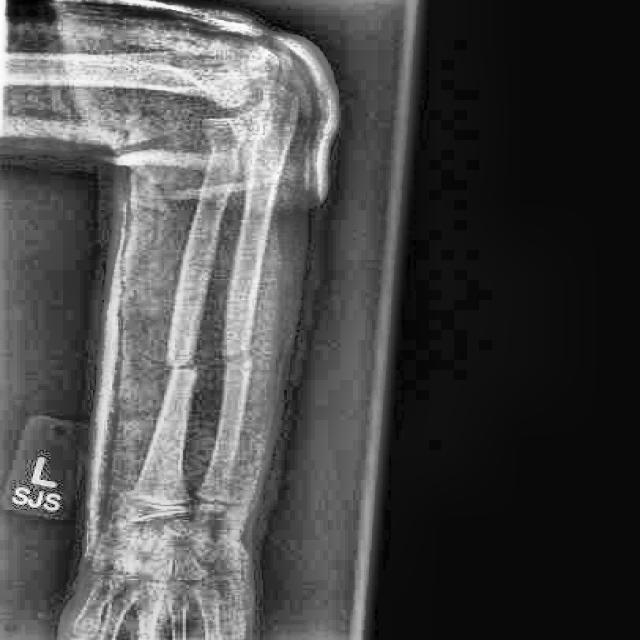forearm fracture: (135, 315, 284, 408)
